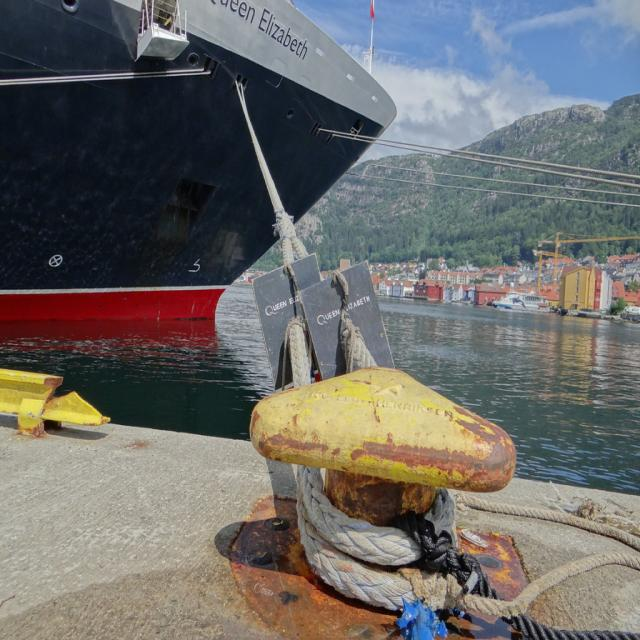Boat: (0, 0, 398, 320), (489, 284, 549, 319)
